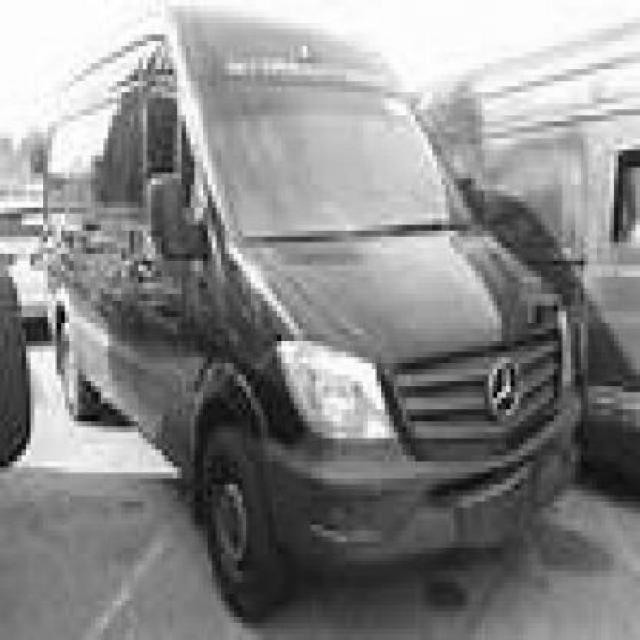Van: (44, 0, 581, 622)
